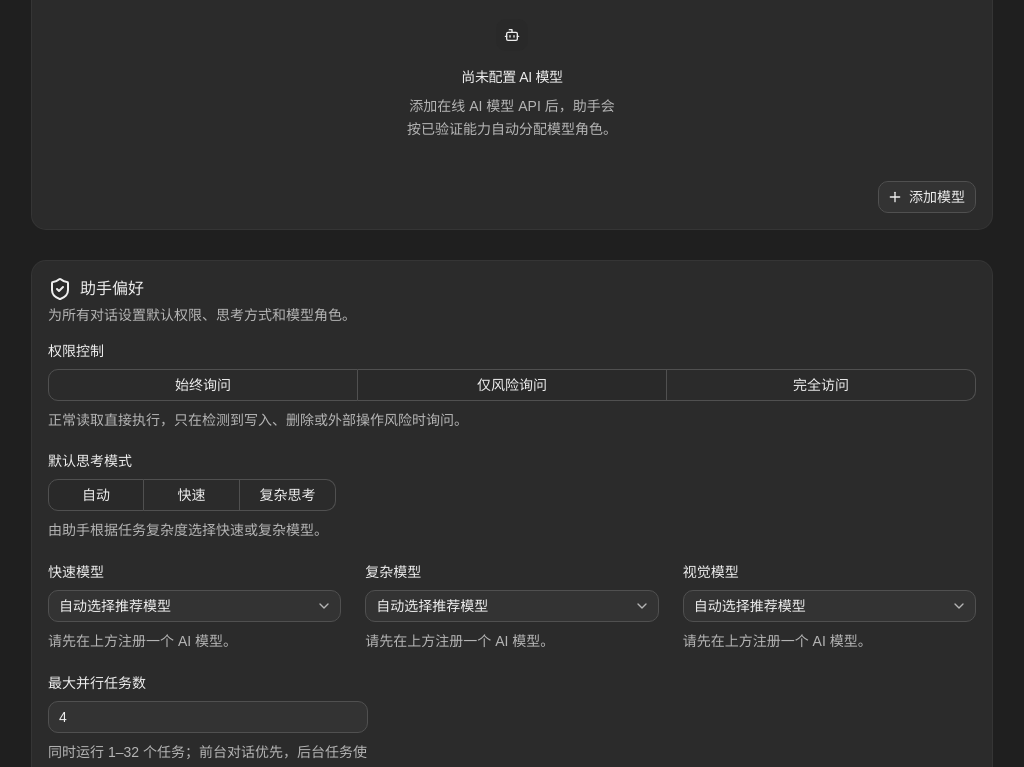
Test: SettingsPage › shows safe Agent defaults and saves explicit permission changes
(page scrolled)
Expected: the heading "助手偏好" is shown, [48, 276, 144, 300]
Expected: the radio button labelled "仅风险询问" is checked, [358, 368, 667, 400]
Click the radio button labelled "完全访问". click: [822, 384]
box: [667, 368, 976, 400]
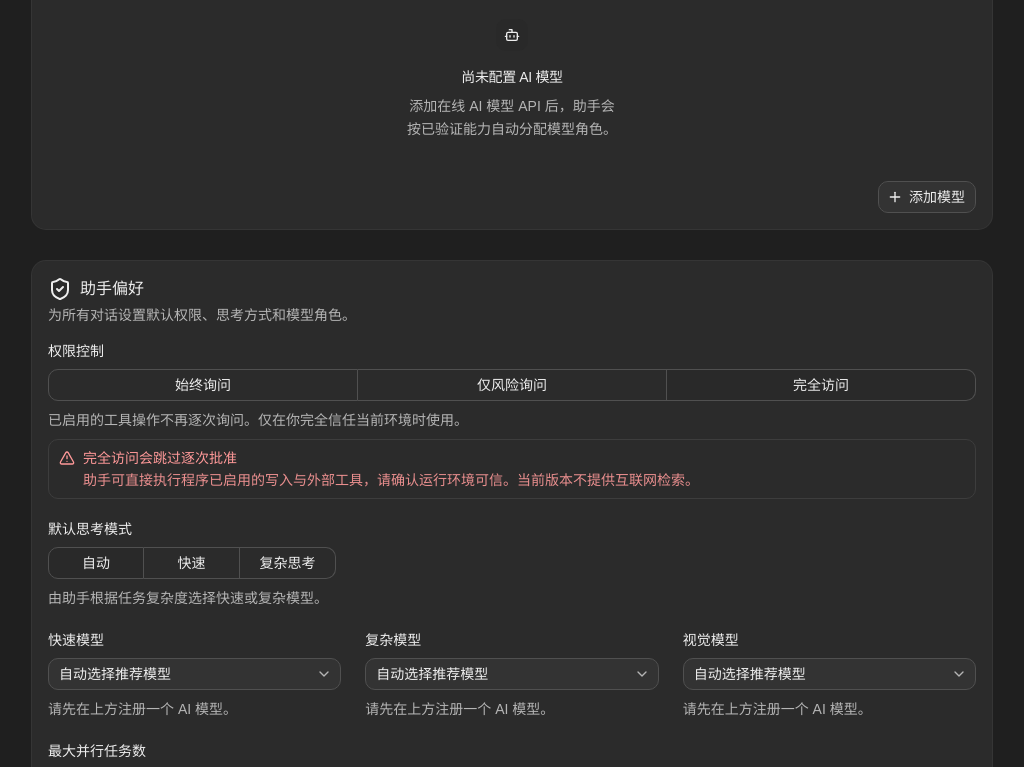
Expected: the text "完全访问会跳过逐次批准" is shown, [83, 450, 237, 466]
